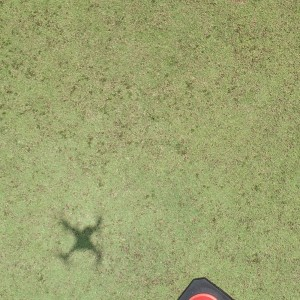traffic cone: (176, 276, 235, 300)
